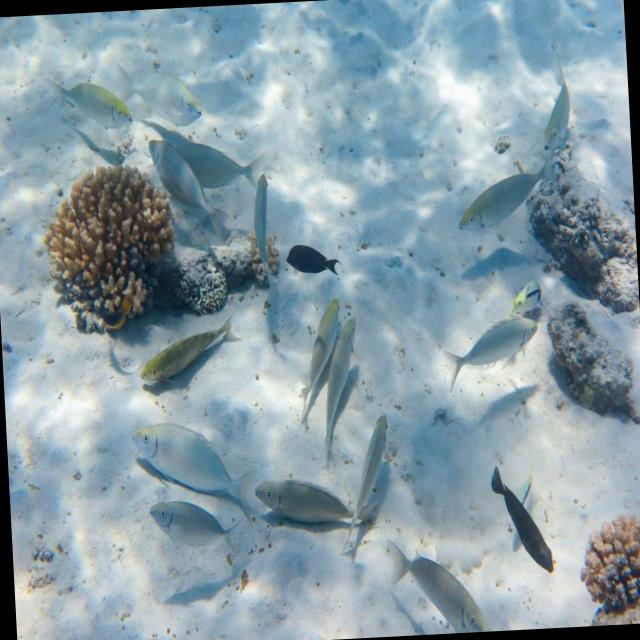Sokar Baligi: (126, 412, 260, 528), (448, 131, 568, 260), (125, 300, 247, 406), (244, 466, 360, 548), (40, 56, 134, 140)
